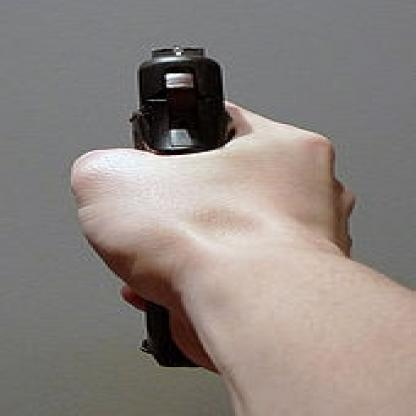gun: (103, 35, 251, 145)
